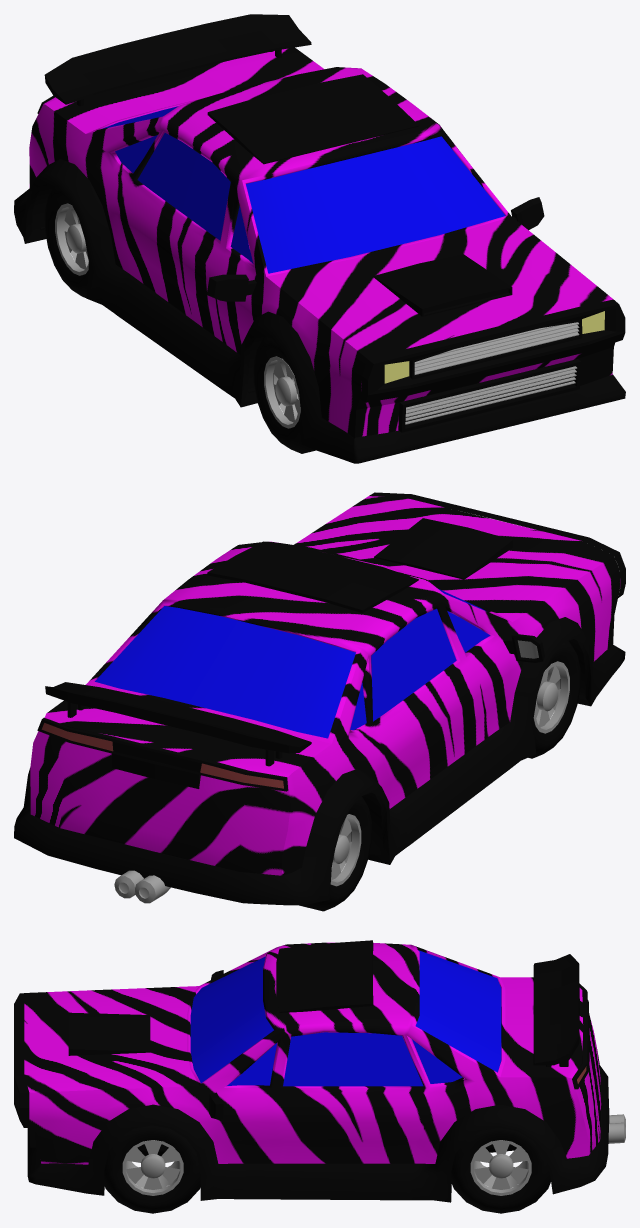
Rendered from Muscle Evolution3 Black ZebraBlackPink Blue LightGrey.glb.
The picture shows the model from 3 angles, top to bottom: view 1: azimuth 30°, elevation 25°; view 2: azimuth 150°, elevation 25°; view 3: azimuth 270°, elevation 25°; orthographic projection. The views are drawn at different scales.
Parts seen in each view (by area): view 1: evo3_body1_f1_dupl, evo3_sill3_f1_dupl, evo3_frontGlass_f1_dupl, evo3_rooftop3_f1_dupl, evo3_spoiler3_f1_dupl, evo3_frontBlockGrid3_f1_dupl, evo3_glasseBigR_f1_dupl, evo3_airtrap_front4_f1_dupl, evo3_blockgrid3_f1_dupl, evo3_gridfrontbot3_f1_dupl, evo3_gridfrontup3_f1_dupl, evo3_tire_rf1_f1_dupl (+6 smaller); view 2: evo3_body1_f1_dupl, evo3_sill3_f1_dupl, evo3_BackGlassGlass_f1_dupl, evo3_rooftop3_f1_dupl, evo3_spoiler3_f1_dupl, evo3_glasseBigR_f1_dupl, evo3_airtrap_front4_f1_dupl, evo3_blockbacklight_f1_dupl, evo3_rim_A_rf_f1_dupl, evo3_tire_rf1_f1_dupl, evo3_tire_rf_f1_dupl, evo3_frontBlockGrid3_f1_dupl (+6 smaller); view 3: evo3_body1_f1_dupl, evo3_sill3_f1_dupl, evo3_BackGlassGlass_f1_dupl, evo3_glasseBigL_f1_dupl, evo3_frontGlass_f1_dupl, evo3_rooftop3_f1_dupl, evo3_spoiler3_f1_dupl, evo3_tire_lf_f1_dupl, evo3_tire_lb_f1_dupl, evo3_airtrap_front4_f1_dupl, evo3_rim_A_lf_f1_dupl, evo3_rim_A_lb_f1_dupl (+5 smaller).
Boxes of the visible parts, bbox=[...] form: evo3_body1_f1_dupl: bbox=[29, 47, 614, 438]; evo3_sill3_f1_dupl: bbox=[14, 159, 625, 463]; evo3_frontGlass_f1_dupl: bbox=[246, 136, 505, 273]; evo3_rooftop3_f1_dupl: bbox=[207, 74, 419, 164]; evo3_spoiler3_f1_dupl: bbox=[44, 14, 311, 106]; evo3_frontBlockGrid3_f1_dupl: bbox=[360, 299, 625, 402]; evo3_glasseBigR_f1_dupl: bbox=[137, 133, 230, 240]; evo3_airtrap_front4_f1_dupl: bbox=[373, 254, 512, 316]; evo3_blockgrid3_f1_dupl: bbox=[398, 359, 581, 432]; evo3_gridfrontbot3_f1_dupl: bbox=[405, 366, 577, 424]; evo3_gridfrontup3_f1_dupl: bbox=[414, 322, 579, 374]; evo3_tire_rf1_f1_dupl: bbox=[253, 336, 315, 453]; evo3_body1_f1_dupl: bbox=[30, 496, 620, 875]; evo3_sill3_f1_dupl: bbox=[14, 617, 625, 905]; evo3_BackGlassGlass_f1_dupl: bbox=[95, 606, 355, 738]; evo3_rooftop3_f1_dupl: bbox=[207, 541, 418, 613]; evo3_spoiler3_f1_dupl: bbox=[45, 682, 311, 766]; evo3_glasseBigR_f1_dupl: bbox=[371, 608, 456, 721]; evo3_airtrap_front4_f1_dupl: bbox=[374, 518, 512, 579]; evo3_blockbacklight_f1_dupl: bbox=[37, 718, 288, 791]; evo3_rim_A_rf_f1_dupl: bbox=[533, 661, 569, 733]; evo3_tire_rf1_f1_dupl: bbox=[528, 641, 580, 758]; evo3_tire_rf_f1_dupl: bbox=[299, 796, 371, 911]; evo3_frontBlockGrid3_f1_dupl: bbox=[369, 492, 625, 597]; evo3_body1_f1_dupl: bbox=[24, 942, 601, 1164]; evo3_sill3_f1_dupl: bbox=[27, 1065, 609, 1202]; evo3_BackGlassGlass_f1_dupl: bbox=[415, 950, 501, 1072]; evo3_glasseBigL_f1_dupl: bbox=[283, 1032, 423, 1086]; evo3_frontGlass_f1_dupl: bbox=[190, 956, 273, 1083]; evo3_rooftop3_f1_dupl: bbox=[276, 940, 373, 1012]; evo3_spoiler3_f1_dupl: bbox=[533, 954, 579, 1066]; evo3_tire_lf_f1_dupl: bbox=[104, 1125, 200, 1213]; evo3_tire_lb_f1_dupl: bbox=[451, 1127, 550, 1213]; evo3_airtrap_front4_f1_dupl: bbox=[68, 1012, 150, 1055]; evo3_rim_A_lf_f1_dupl: bbox=[122, 1140, 183, 1195]; evo3_rim_A_lb_f1_dupl: bbox=[470, 1140, 531, 1195].
Size of the model in its own units: 177 by 116 by 335.
Materials: 8 (1 with a texture image).
